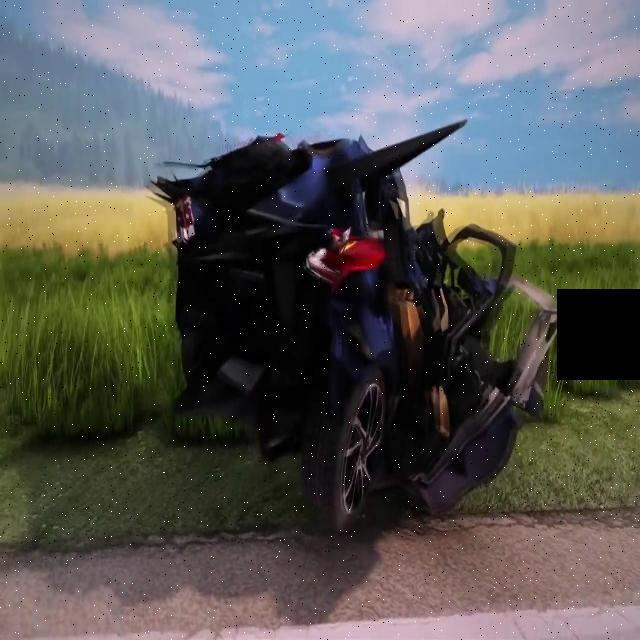vehicle: (168, 75, 576, 553)
